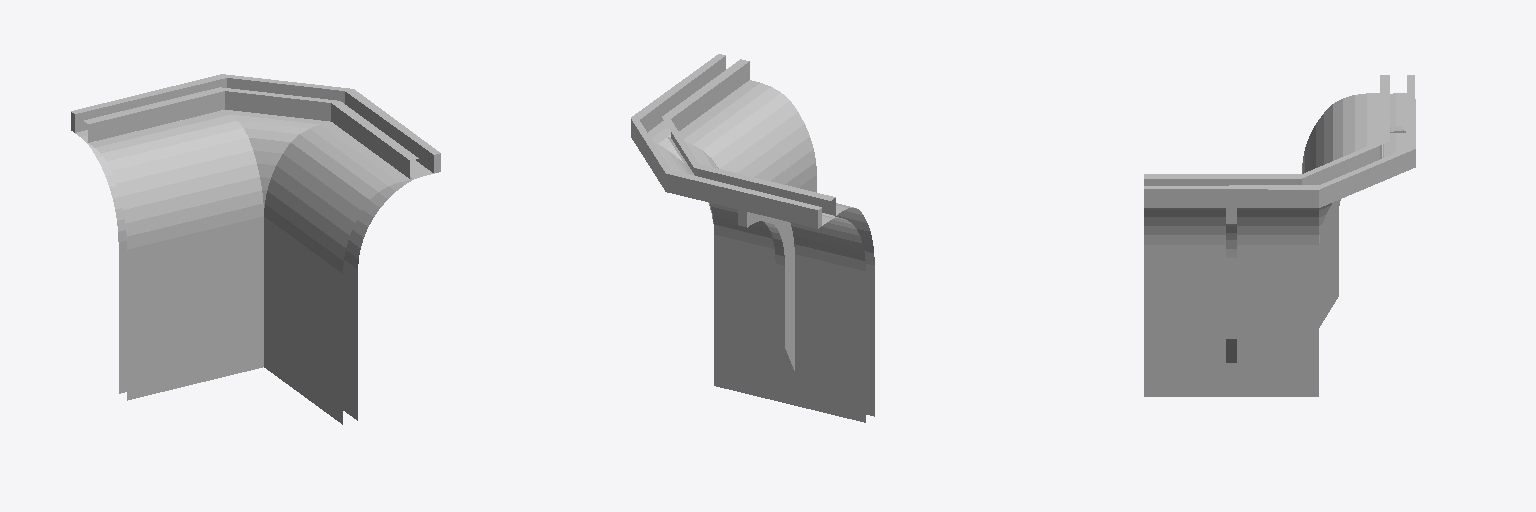
The model's file is Overhang_UnevenBrick_Corner.obj.
3 views of the same model, side by side, from view 1: azimuth 30°, elevation 25°; view 2: azimuth 150°, elevation 25°; view 3: azimuth 270°, elevation 25° (orthographic).
Parts seen in each view (by area): view 1: Overhang_UnevenBrick_Corner; view 2: Overhang_UnevenBrick_Corner; view 3: Overhang_UnevenBrick_Corner.
Part boxes in pixels (bbox=[...]): Overhang_UnevenBrick_Corner: bbox=[71, 74, 440, 424]; Overhang_UnevenBrick_Corner: bbox=[631, 54, 874, 422]; Overhang_UnevenBrick_Corner: bbox=[1144, 75, 1415, 396].
Bounding box in the file's own units: 3.1 × 3.12 × 3.1.